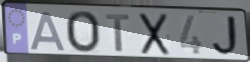4: (178, 14, 204, 57)
A: (29, 10, 69, 52)
J: (210, 14, 243, 58)
O: (64, 10, 102, 55)
T: (104, 13, 132, 54)
X: (139, 11, 171, 57)
